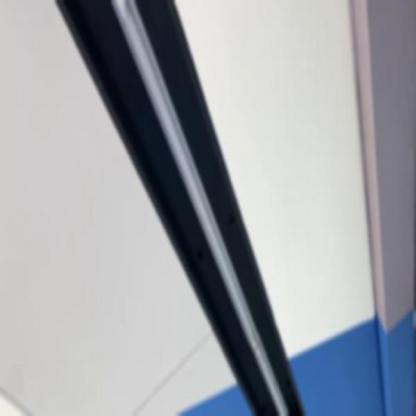light_off: (96, 0, 304, 415)
